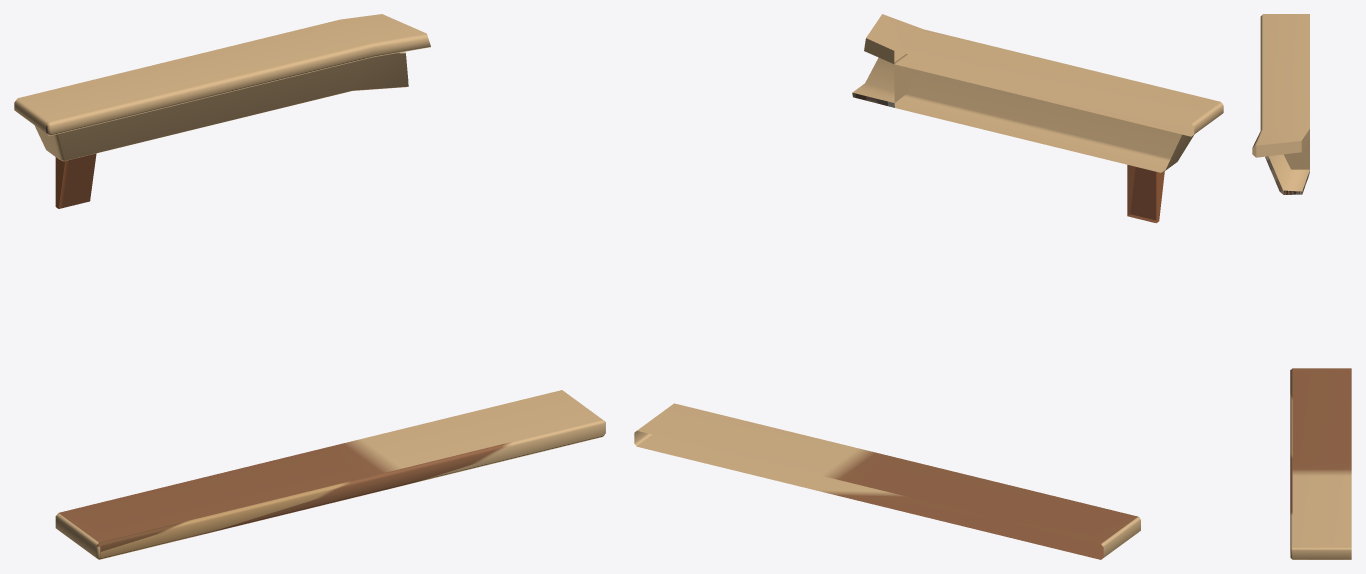
File: DBK_WinSmall_Trim_B_90.fbx
3 views of the same model, side by side, from view 1: azimuth 30°, elevation 25°; view 2: azimuth 150°, elevation 25°; view 3: azimuth 270°, elevation 25° (orthographic). The views are drawn at different scales.
Visible parts, largest first — view 1: DBK_WinSmall_Trim_B_90; view 2: DBK_WinSmall_Trim_B_90; view 3: DBK_WinSmall_Trim_B_90.
Boxes of the visible parts, bbox=[...] form: DBK_WinSmall_Trim_B_90: bbox=[14, 14, 605, 559]; DBK_WinSmall_Trim_B_90: bbox=[634, 14, 1223, 559]; DBK_WinSmall_Trim_B_90: bbox=[1252, 14, 1351, 559].
Size of the model in its own units: 186 by 145 by 37.97.
